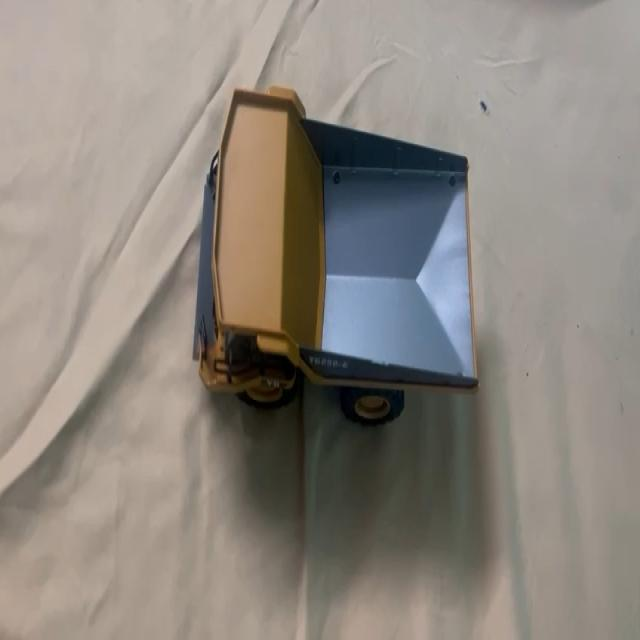dump_truck: (187, 77, 483, 434)
